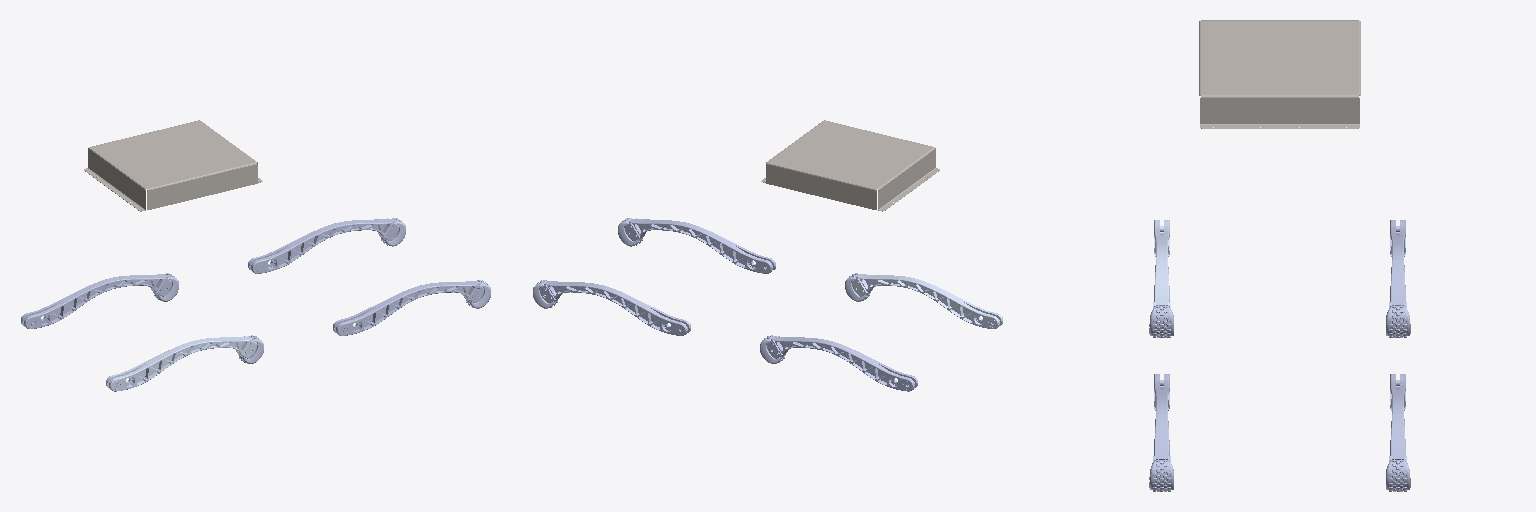
The robot description file, URDF, robot "hje":
<?xml version="1.0" encoding="utf-8"?>
<!-- This URDF was automatically created by SolidWorks to URDF Exporter! Originally created by Stephen Brawner (brawner@gmail.com) 
     Commit Version: 1.6.0-4-g7f85cfe  Build Version: 1.6.7995.38578
     For more information, please see http://wiki.ros.org/sw_urdf_exporter -->
<robot
  name="hje">
  <link
    name="base_link">
    <inertial>
      <origin
        xyz="-0.000252 0.001192 -0.000461"
        rpy="0 0 0" />
      <mass
        value="21.304" />
      <inertia
        ixx="0.17608"
        ixy="-9.9E-05"
        ixz="0.000372"
        iyy="0.70637"
        iyz="-5.5E-05"
        izz="0.81989" />
    </inertial>
    <visual>
      <origin
        xyz="0 0 0"
        rpy="0 0 0" />
      <geometry>
        <mesh
          filename="../meshes/base_link.STL" />
      </geometry>
      <material
        name="">
        <color
          rgba="0.86667 0.9098 1 1" />
      </material>
    </visual>
    <collision>
      <origin
        xyz="0 0 0.01"
        rpy="0 0 0" />
      <geometry>
        <box size="0.3 0.3 0.15"/>
      </geometry>
    </collision>
  </link>
  <link
    name="FL_HIP_LINK">
    <inertial>
      <origin
        xyz="-0.006559 0.017218 -1E-05"
        rpy="0 0 0" />
      <mass
        value="1.6116" />
      <inertia
        ixx="0.000997"
        ixy="-7.7E-05"
        ixz="0"
        iyy="0.002086"
        iyz="0"
        izz="0.001595" />
    </inertial>
    <visual>
      <origin
        xyz="0 0 0"
        rpy="0 0 0" />
      <geometry>
        <mesh
          filename="../meshes/FL_HIP_LINK.STL" />
      </geometry>
      <material
        name="">
        <color
          rgba="0.86667 0.9098 1 1" />
      </material>
    </visual>
    <collision>
      <origin
        xyz="0 0.02 0"
        rpy="0 0 0" />
      <geometry>
        <box size="0.09 0.09 0.09"/>
      </geometry>
    </collision>
  </link>
  <joint
    name="FL_HIP_JOINT"
    type="revolute">
    <origin
      xyz="0.3085 0.075 0"
      rpy="0 0 0" />
    <parent
      link="base_link" />
    <child
      link="FL_HIP_LINK" />
    <axis
      xyz="1 0 0" />
    <limit
      lower="-1.01"
      upper="1.01"
      effort="106"
      velocity="23.34" />
  </joint>
  <link
    name="FL_THIGH_LINK">
    <inertial>
      <origin
        xyz="-0.002309 -0.026903 -0.039452"
        rpy="0 0 0" />
      <mass
        value="2.8949" />
      <inertia
        ixx="0.025775"
        ixy="0.000176"
        ixz="-0.001527"
        iyy="0.025828"
        iyz="0.003086"
        izz="0.004556" />
    </inertial>
    <visual>
      <origin
        xyz="0 0 0"
        rpy="0 0 0" />
      <geometry>
        <mesh
          filename="../meshes/FL_THIGH_LINK.STL" />
      </geometry>
      <material
        name="">
        <color
          rgba="0.86667 0.9098 1 1" />
      </material>
    </visual>
    <collision>
      <origin xyz="0.0 0 0" rpy="1.571 0 0" />
      <geometry>
        <cylinder radius="0.058" length="0.08" />
      </geometry>
    </collision>

    <collision>
      <origin xyz="-0.02 0 -0.12" rpy="0 0.01 0" />
      <geometry>
        <box size="0.1 0.036 0.19" />
      </geometry>
    </collision>
  </link>
  <joint
    name="FL_THIGH_JOINT"
    type="revolute">
    <origin
      xyz="0 0.125 0"
      rpy="0 0 0" />
    <parent
      link="FL_HIP_LINK" />
    <child
      link="FL_THIGH_LINK" />
    <axis
      xyz="0 1 0" />
    <limit
      lower="-2.36"
      upper="3.14"
      effort="150"
      velocity="14.65" />
  </joint>
  <link
    name="FL_CALF_LINK">
    <inertial>
      <origin
        xyz="0.010932 -0.000191 -0.12996"
        rpy="0 0 0" />
      <mass
        value="0.4051" />
      <inertia
        ixx="0.004014"
        ixy="-1E-06"
        ixz="0.000115"
        iyy="0.004056"
        iyz="1E-05"
        izz="6.7E-05" />
    </inertial>
    <visual>
      <origin
        xyz="0 0 0"
        rpy="0 0 0" />
      <geometry>
        <mesh
          filename="../meshes/FL_CALF_LINK.STL" />
      </geometry>
      <material
        name="">
        <color
          rgba="0.79216 0.81961 0.93333 1" />
      </material>
    </visual>
    <collision>
      <origin xyz="0.01 -0.00 -0.04" rpy="0 -0.24 0" />
      <geometry>
        <box size="0.024 0.03 0.18" />
      </geometry>
    </collision>
    <collision>
      <origin xyz="0.036 -0.00 -0.17" rpy="0 -0.03 0" />
      <geometry>
        <box size="0.022 0.03 0.08" />
      </geometry>
    </collision>
    <collision>
      <origin xyz="0.032 -0.00 -0.246" rpy="0 0.2 0" />
      <geometry>
        <box size="0.02 0.036 0.08" />
      </geometry>
    </collision>
  </link>
  <joint
    name="FL_CALF_JOINT"
    type="revolute">
    <origin
      xyz="0.0017279 0 -0.33"
      rpy="0 0 0" />
    <parent
      link="FL_THIGH_LINK" />
    <child
      link="FL_CALF_LINK" />
    <axis
      xyz="0 1 0" />
    <limit
      lower="-2.8"
      upper="-0.39"
      effort="150"
      velocity="14.65" />
  </joint>
  <link
    name="FL_FOOT_LINK">
    <inertial>
      <origin
        xyz="0 0 -0.022551"
        rpy="0 0 0" />
      <mass
        value="0.0673" />
      <inertia
        ixx="1.6E-05"
        ixy="0"
        ixz="0"
        iyy="2.8E-05"
        iyz="0"
        izz="2.8E-05" />
    </inertial>
    <visual>
      <origin
        xyz="0 0 0"
        rpy="0 0 0" />
      <geometry>
        <mesh
          filename="../meshes/FL_FOOT_LINK.STL" />
      </geometry>
      <material
        name="">
        <color
          rgba="0.79216 0.81961 0.93333 1" />
      </material>
    </visual>
    <collision>
      <origin
        xyz="0 0 0"
        rpy="0 0 0" />
      <geometry>
        <sphere radius="0.042"/>
      </geometry>
    </collision>
  </link>
  <joint
    name="FL_FOOT_JOINT"
    type="fixed">
    <origin
      xyz="0.0023007 0 -0.32166"
      rpy="0 0.65728 0" />
    <parent
      link="FL_CALF_LINK" />
    <child
      link="FL_FOOT_LINK" />
    <axis
      xyz="0 0 0" />
  </joint>
  <link
    name="FR_HIP_LINK">
    <inertial>
      <origin
        xyz="-0.006559 -0.017218 1E-05"
        rpy="0 0 0" />
      <mass
        value="1.6116" />
      <inertia
        ixx="0.000997"
        ixy="7.7E-05"
        ixz="0"
        iyy="0.002086"
        iyz="0"
        izz="0.001595" />
    </inertial>
    <visual>
      <origin
        xyz="0 0 0"
        rpy="0 0 0" />
      <geometry>
        <mesh
          filename="../meshes/FR_HIP_LINK.STL" />
      </geometry>
      <material
        name="">
        <color
          rgba="0.86667 0.9098 1 1" />
      </material>
    </visual>
    <collision>
      <origin
        xyz="0 -0.02 0"
        rpy="0 0 0" />
      <geometry>
        <box size="0.09 0.09 0.09"/>
      </geometry>
    </collision>
  </link>
  <joint
    name="FR_HIP_JOINT"
    type="revolute">
    <origin
      xyz="0.3085 -0.075 0"
      rpy="0 0 0" />
    <parent
      link="base_link" />
    <child
      link="FR_HIP_LINK" />
    <axis
      xyz="1 0 0" />
    <limit
      lower="-1.01"
      upper="1.01"
      effort="106"
      velocity="23.34" />
  </joint>
  <link
    name="FR_THIGH_LINK">
    <inertial>
      <origin
        xyz="-0.002309 0.026903 -0.039452"
        rpy="0 0 0" />
      <mass
        value="2.8949" />
      <inertia
        ixx="0.025775"
        ixy="-0.000176"
        ixz="-0.001527"
        iyy="0.025828"
        iyz="-0.003086"
        izz="0.004556" />
    </inertial>
    <visual>
      <origin
        xyz="0 0 0"
        rpy="0 0 0" />
      <geometry>
        <mesh
          filename="../meshes/FR_THIGH_LINK.STL" />
      </geometry>
      <material
        name="">
        <color
          rgba="0.86667 0.9098 1 1" />
      </material>
    </visual>
    <collision>
      <origin xyz="0.0 0 0" rpy="1.571 0 0" />
      <geometry>
        <cylinder radius="0.058" length="0.08" />
      </geometry>
    </collision>

    <collision>
      <origin xyz="-0.02 0 -0.12" rpy="0 0.01 0" />
      <geometry>
        <box size="0.1 0.036 0.19" />
      </geometry>
    </collision>
  </link>
  <joint
    name="FR_THIGH_JOINT"
    type="revolute">
    <origin
      xyz="0 -0.125 0"
      rpy="0 0 0" />
    <parent
      link="FR_HIP_LINK" />
    <child
      link="FR_THIGH_LINK" />
    <axis
      xyz="0 1 0" />
    <limit
      lower="-2.36"
      upper="3.14"
      effort="150"
      velocity="14.65" />
  </joint>
  <link
    name="FR_CALF_LINK">
    <inertial>
      <origin
        xyz="0.010932 -0.000191 -0.12996"
        rpy="0 0 0" />
      <mass
        value="0.4051" />
      <inertia
        ixx="0.004014"
        ixy="-1E-06"
        ixz="0.000115"
        iyy="0.004056"
        iyz="1E-05"
        izz="6.7E-05" />
    </inertial>
    <visual>
      <origin
        xyz="0 0 0"
        rpy="0 0 0" />
      <geometry>
        <mesh
          filename="../meshes/FR_CALF_LINK.STL" />
      </geometry>
      <material
        name="">
        <color
          rgba="0.79216 0.81961 0.93333 1" />
      </material>
    </visual>
    <collision>
      <origin xyz="0.01 -0.00 -0.04" rpy="0 -0.24 0" />
      <geometry>
        <box size="0.024 -0.03 0.18" />
      </geometry>
    </collision>
    <collision>
      <origin xyz="0.036 -0.00 -0.17" rpy="0 -0.03 0" />
      <geometry>
        <box size="0.022 -0.03 0.08" />
      </geometry>
    </collision>
    <collision>
      <origin xyz="0.032 -0.00 -0.246" rpy="0 0.2 0" />
      <geometry>
        <box size="0.02 -0.036 0.08" />
      </geometry>
    </collision>
  </link>
  <joint
    name="FR_CALF_JOINT"
    type="revolute">
    <origin
      xyz="0.0017279 0 -0.33"
      rpy="0 0 0" />
    <parent
      link="FR_THIGH_LINK" />
    <child
      link="FR_CALF_LINK" />
    <axis
      xyz="0 1 0" />
    <limit
      lower="-2.8"
      upper="-0.39"
      effort="150"
      velocity="14.65" />
  </joint>
  <link
    name="FR_FOOT_LINK">
    <inertial>
      <origin
        xyz="0 0 -0.022551"
        rpy="0 0 0" />
      <mass
        value="0.0673" />
      <inertia
        ixx="1.6E-05"
        ixy="0"
        ixz="0"
        iyy="2.8E-05"
        iyz="0"
        izz="2.8E-05" />
    </inertial>
    <visual>
      <origin
        xyz="0 0 0"
        rpy="0 0 0" />
      <geometry>
        <mesh
          filename="../meshes/FR_FOOT_LINK.STL" />
      </geometry>
      <material
        name="">
        <color
          rgba="0.79216 0.81961 0.93333 1" />
      </material>
    </visual>
    <collision>
      <origin
        xyz="0 0 0"
        rpy="0 0 0" />
      <geometry>
        <sphere radius="0.042"/>
      </geometry>
    </collision>
  </link>
  <joint
    name="FR_FOOT_JOINT"
    type="fixed">
    <origin
      xyz="0.0023007 0 -0.32166"
      rpy="0 0.65728 0" />
    <parent
      link="FR_CALF_LINK" />
    <child
      link="FR_FOOT_LINK" />
    <axis
      xyz="0 0 0" />
  </joint>
  <link
    name="RL_HIP_LINK">
    <inertial>
      <origin
        xyz="0.006559 0.017218 -1E-05"
        rpy="0 0 0" />
      <mass
        value="1.6116" />
      <inertia
        ixx="0.000997"
        ixy="7.7E-05"
        ixz="0"
        iyy="0.002086"
        iyz="0"
        izz="0.001595" />
    </inertial>
    <visual>
      <origin
        xyz="0 0 0"
        rpy="0 0 0" />
      <geometry>
        <mesh
          filename="../meshes/RL_HIP_LINK.STL" />
      </geometry>
      <material
        name="">
        <color
          rgba="0.79216 0.81961 0.93333 1" />
      </material>
    </visual>
    <collision>
      <origin
        xyz="0 0.02 0"
        rpy="0 0 0" />
      <geometry>
        <box size="0.09 0.09 0.09"/>
      </geometry>
    </collision>
  </link>
  <joint
    name="RL_HIP_JOINT"
    type="revolute">
    <origin
      xyz="-0.3085 0.075 0"
      rpy="0 0 0" />
    <parent
      link="base_link" />
    <child
      link="RL_HIP_LINK" />
    <axis
      xyz="1 0 0" />
    <limit
      lower="-1.01"
      upper="1.01"
      effort="106"
      velocity="23.34" />
  </joint>
  <link
    name="RL_THIGH_LINK">
    <inertial>
      <origin
        xyz="-0.002309 -0.026903 -0.039452"
        rpy="0 0 0" />
      <mass
        value="2.8949" />
      <inertia
        ixx="0.025775"
        ixy="0.000176"
        ixz="-0.001527"
        iyy="0.025828"
        iyz="0.003086"
        izz="0.004556" />
    </inertial>
    <visual>
      <origin
        xyz="0 0 0"
        rpy="0 0 0" />
      <geometry>
        <mesh
          filename="../meshes/RL_THIGH_LINK.STL" />
      </geometry>
      <material
        name="">
        <color
          rgba="0.86667 0.9098 1 1" />
      </material>
    </visual>
    <collision>
      <origin xyz="0.0 0 0" rpy="1.571 0 0" />
      <geometry>
        <cylinder radius="0.058" length="0.08" />
      </geometry>
    </collision>

    <collision>
      <origin xyz="-0.02 0 -0.12" rpy="0 0.01 0" />
      <geometry>
        <box size="0.1 0.036 0.19" />
      </geometry>
    </collision>
  </link>
  <joint
    name="RL_THIGH_JOINT"
    type="revolute">
    <origin
      xyz="0 0.125 0"
      rpy="0 0 0" />
    <parent
      link="RL_HIP_LINK" />
    <child
      link="RL_THIGH_LINK" />
    <axis
      xyz="0 1 0" />
    <limit
      lower="-2.36"
      upper="3.14"
      effort="150"
      velocity="14.65" />
  </joint>
  <link
    name="RL_CALF_LINK">
    <inertial>
      <origin
        xyz="0.010932 -0.000191 -0.12996"
        rpy="0 0 0" />
      <mass
        value="0.4051" />
      <inertia
        ixx="0.004014"
        ixy="-1E-06"
        ixz="0.000115"
        iyy="0.004056"
        iyz="1E-05"
        izz="6.7E-05" />
    </inertial>
    <visual>
      <origin
        xyz="0 0 0"
        rpy="0 0 0" />
      <geometry>
        <mesh
          filename="../meshes/RL_CALF_LINK.STL" />
      </geometry>
      <material
        name="">
        <color
          rgba="0.79216 0.81961 0.93333 1" />
      </material>
    </visual>
    <collision>
      <origin xyz="0.01 -0.00 -0.04" rpy="0 -0.24 0" />
      <geometry>
        <box size="0.024 -0.03 0.18" />
      </geometry>
    </collision>
    <collision>
      <origin xyz="0.036 -0.00 -0.17" rpy="0 -0.03 0" />
      <geometry>
        <box size="0.022 -0.03 0.08" />
      </geometry>
    </collision>
    <collision>
      <origin xyz="0.032 -0.00 -0.246" rpy="0 0.2 0" />
      <geometry>
        <box size="0.02 -0.036 0.08" />
      </geometry>
    </collision>
  </link>
  <joint
    name="RL_CALF_JOINT"
    type="revolute">
    <origin
      xyz="0.0017279 0 -0.33"
      rpy="0 0 0" />
    <parent
      link="RL_THIGH_LINK" />
    <child
      link="RL_CALF_LINK" />
    <axis
      xyz="0 1 0" />
    <limit
      lower="-2.8"
      upper="-0.39"
      effort="150"
      velocity="14.65" />
  </joint>
  <link
    name="RL_FOOT_LINK">
    <inertial>
      <origin
        xyz="0 0 -0.022551"
        rpy="0 0 0" />
      <mass
        value="0.0673" />
      <inertia
        ixx="1.6E-05"
        ixy="0"
        ixz="0"
        iyy="2.8E-05"
        iyz="0"
        izz="2.8E-05" />
    </inertial>
    <visual>
      <origin
        xyz="0 0 0"
        rpy="0 0 0" />
      <geometry>
        <mesh
          filename="../meshes/RL_FOOT_LINK.STL" />
      </geometry>
      <material
        name="">
        <color
          rgba="0.79216 0.81961 0.93333 1" />
      </material>
    </visual>
    <collision>
      <origin
        xyz="0 0 0"
        rpy="0 0 0" />
      <geometry>
        <sphere radius="0.042"/>
      </geometry>
    </collision>
  </link>
  <joint
    name="RL_FOOT_JOINT"
    type="fixed">
    <origin
      xyz="0.0023007 0 -0.32166"
      rpy="0 0.65728 0" />
    <parent
      link="RL_CALF_LINK" />
    <child
      link="RL_FOOT_LINK" />
    <axis
      xyz="0 0 0" />
  </joint>
  <link
    name="RR_HIP_LINK">
    <inertial>
      <origin
        xyz="0.006559 -0.017218 1E-05"
        rpy="0 0 0" />
      <mass
        value="1.6116" />
      <inertia
        ixx="0.000997"
        ixy="-7.7E-05"
        ixz="0"
        iyy="0.002086"
        iyz="0"
        izz="0.001595" />
    </inertial>
    <visual>
      <origin
        xyz="0 0 0"
        rpy="0 0 0" />
      <geometry>
        <mesh
          filename="../meshes/RR_HIP_LINK.STL" />
      </geometry>
      <material
        name="">
        <color
          rgba="0.86667 0.9098 1 1" />
      </material>
    </visual>
    <collision>
      <origin
        xyz="0 -0.02 0"
        rpy="0 0 0" />
      <geometry>
        <box size="0.09 0.09 0.09"/>
      </geometry>
    </collision>
  </link>
  <joint
    name="RR_HIP_JOINT"
    type="revolute">
    <origin
      xyz="-0.3085 -0.075 0"
      rpy="0 0 0" />
    <parent
      link="base_link" />
    <child
      link="RR_HIP_LINK" />
    <axis
      xyz="1 0 0" />
    <limit
      lower="-1.01"
      upper="1.01"
      effort="106"
      velocity="23.34" />
  </joint>
  <link
    name="RR_THIGH_LINK">
    <inertial>
      <origin
        xyz="-0.002309 0.026903 -0.039452"
        rpy="0 0 0" />
      <mass
        value="2.8949" />
      <inertia
        ixx="0.025775"
        ixy="-0.000176"
        ixz="-0.001527"
        iyy="0.025828"
        iyz="-0.003086"
        izz="0.004556" />
    </inertial>
    <visual>
      <origin
        xyz="0 0 0"
        rpy="0 0 0" />
      <geometry>
        <mesh
          filename="../meshes/RR_THIGH_LINK.STL" />
      </geometry>
      <material
        name="">
        <color
          rgba="0.86667 0.9098 1 1" />
      </material>
    </visual>
    <collision>
      <origin xyz="0.0 0 0" rpy="1.571 0 0" />
      <geometry>
        <cylinder radius="0.058" length="0.08" />
      </geometry>
    </collision>

    <collision>
      <origin xyz="-0.02 0 -0.12" rpy="0 0.01 0" />
      <geometry>
        <box size="0.1 0.036 0.19" />
      </geometry>
    </collision>
  </link>
  <joint
    name="RR_THIGH_JOINT"
    type="revolute">
    <origin
      xyz="0 -0.125 0"
      rpy="0 0 0" />
    <parent
      link="RR_HIP_LINK" />
    <child
      link="RR_THIGH_LINK" />
    <axis
      xyz="0 1 0" />
    <limit
      lower="-2.36"
      upper="3.14"
      effort="150"
      velocity="14.65" />
  </joint>
  <link
    name="RR_CALF_LINK">
    <inertial>
      <origin
        xyz="0.010932 -0.000191 -0.12996"
        rpy="0 0 0" />
      <mass
        value="0.4051" />
      <inertia
        ixx="0.004014"
        ixy="-1E-06"
        ixz="0.000115"
        iyy="0.004056"
        iyz="1E-05"
        izz="6.7E-05" />
    </inertial>
    <visual>
      <origin
        xyz="0 0 0"
        rpy="0 0 0" />
      <geometry>
        <mesh
          filename="../meshes/RR_CALF_LINK.STL" />
      </geometry>
      <material
        name="">
        <color
          rgba="0.86667 0.9098 1 1" />
      </material>
    </visual>
    <collision>
      <origin xyz="0.01 -0.00 -0.04" rpy="0 -0.24 0" />
      <geometry>
        <box size="0.024 0.03 0.18" />
      </geometry>
    </collision>
    <collision>
      <origin xyz="0.036 -0.00 -0.17" rpy="0 -0.03 0" />
      <geometry>
        <box size="0.022 0.03 0.08" />
      </geometry>
    </collision>
    <collision>
      <origin xyz="0.032 -0.00 -0.246" rpy="0 0.2 0" />
      <geometry>
        <box size="0.02 0.036 0.08" />
      </geometry>
    </collision>
  </link>
  <joint
    name="RR_CALF_JOINT"
    type="revolute">
    <origin
      xyz="0.0017279 0 -0.33"
      rpy="0 0 0" />
    <parent
      link="RR_THIGH_LINK" />
    <child
      link="RR_CALF_LINK" />
    <axis
      xyz="0 1 0" />
    <limit
      lower="-2.8"
      upper="-0.39"
      effort="150"
      velocity="14.65" />
  </joint>
  <link
    name="RR_FOOT_LINK">
    <inertial>
      <origin
        xyz="0 0 -0.022551"
        rpy="0 0 0" />
      <mass
        value="0.0673" />
      <inertia
        ixx="1.6E-05"
        ixy="0"
        ixz="0"
        iyy="2.8E-05"
        iyz="0"
        izz="2.8E-05" />
    </inertial>
    <visual>
      <origin
        xyz="0 0 0"
        rpy="0 0 0" />
      <geometry>
        <mesh
          filename="../meshes/RR_FOOT_LINK.STL" />
      </geometry>
      <material
        name="">
        <color
          rgba="0.79216 0.81961 0.93333 1" />
      </material>
    </visual>
    <collision>
      <origin
        xyz="0 0 0"
        rpy="0 0 0" />
      <geometry>
        <mesh
          filename="../meshes/RR_FOOT_LINK.STL" />
      </geometry>
    </collision>
  </link>
  <joint
    name="RR_FOOT_JOINT"
    type="fixed">
    <origin
      xyz="0.0023007 0 -0.32166"
      rpy="0 0.65728 0" />
    <parent
      link="RR_CALF_LINK" />
    <child
      link="RR_FOOT_LINK" />
    <axis
      xyz="0 0 0" />
  </joint>
  <link
    name="SHEET_METAL_LINK">
    <inertial>
      <origin
        xyz="1.2E-05 0 0.005823"
        rpy="0 0 0" />
      <mass
        value="0.97076" />
      <inertia
        ixx="0.008978"
        ixy="0"
        ixz="0"
        iyy="0.011525"
        iyz="0"
        izz="0.019813" />
    </inertial>
    <visual>
      <origin
        xyz="0 0 0"
        rpy="0 0 0" />
      <geometry>
        <mesh
          filename="../meshes/SHEET_METAL_LINK.STL" />
      </geometry>
      <material
        name="">
        <color
          rgba="0.77647 0.75686 0.73725 1" />
      </material>
    </visual>

  </link>
  <joint
    name="SHEET_METAL_JOINT"
    type="fixed">
    <origin
      xyz="0 0 0"
      rpy="0 0 0" />
    <parent
      link="base_link" />
    <child
      link="SHEET_METAL_LINK" />
    <axis
      xyz="0 0 0" />
  </joint>
</robot>

--- Facts derived from the render (not from the file) ---
3 views of the same robot in one strip: view 1: azimuth 30°, elevation 25°; view 2: azimuth 150°, elevation 25°; view 3: azimuth 270°, elevation 25° (orthographic).
Model hje with 18 links and 17 joints (12 revolute, 5 fixed), rooted at base_link, posed joints at zero except 4 at the middle of their limits (FL_CALF_JOINT = -1.59, FR_CALF_JOINT = -1.59, RL_CALF_JOINT = -1.59, RR_CALF_JOINT = -1.59).
Visible links, largest first — view 1: SHEET_METAL_LINK, RR_CALF_LINK, FR_CALF_LINK, FL_CALF_LINK, RL_CALF_LINK; view 2: SHEET_METAL_LINK, RL_CALF_LINK, FR_CALF_LINK, FL_CALF_LINK, RR_CALF_LINK; view 3: SHEET_METAL_LINK, RL_CALF_LINK, RR_CALF_LINK, FL_CALF_LINK, FR_CALF_LINK, FL_FOOT_LINK, RL_FOOT_LINK, FR_FOOT_LINK, RR_FOOT_LINK.
Boxes of the visible links, x1,y1,x2,y2 form: SHEET_METAL_LINK: (84, 120, 262, 211); RR_CALF_LINK: (106, 336, 257, 391); FR_CALF_LINK: (333, 281, 484, 335); FL_CALF_LINK: (248, 218, 399, 273); RL_CALF_LINK: (21, 274, 171, 328); SHEET_METAL_LINK: (761, 120, 939, 211); RL_CALF_LINK: (766, 336, 917, 391); FR_CALF_LINK: (624, 218, 775, 273); FL_CALF_LINK: (539, 281, 690, 335); RR_CALF_LINK: (851, 274, 1002, 328); SHEET_METAL_LINK: (1199, 20, 1360, 128); RL_CALF_LINK: (1389, 220, 1406, 307); RR_CALF_LINK: (1153, 220, 1170, 307); FL_CALF_LINK: (1389, 374, 1406, 461); FR_CALF_LINK: (1153, 374, 1170, 461); FL_FOOT_LINK: (1386, 459, 1410, 491); RL_FOOT_LINK: (1386, 305, 1410, 337); FR_FOOT_LINK: (1149, 459, 1173, 491); RR_FOOT_LINK: (1149, 305, 1173, 337).
Bounding box of the posed robot: 1.03 × 0.4423 × 0.4785 m (x, y, z).
9 mesh visuals loaded from 18 distinct referenced files (9 binary STL); not drawn: 9 (reference not matched to a file when rendering).
